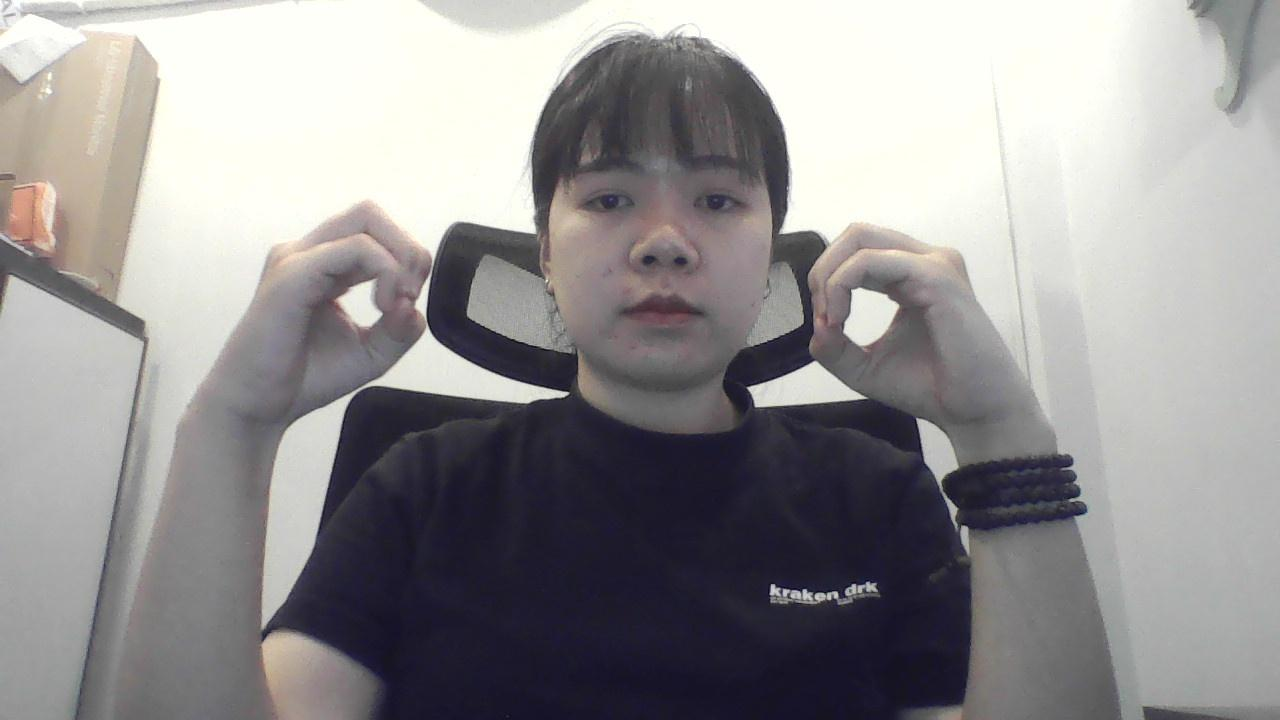O: (165, 167, 448, 443), (795, 207, 1051, 439)
